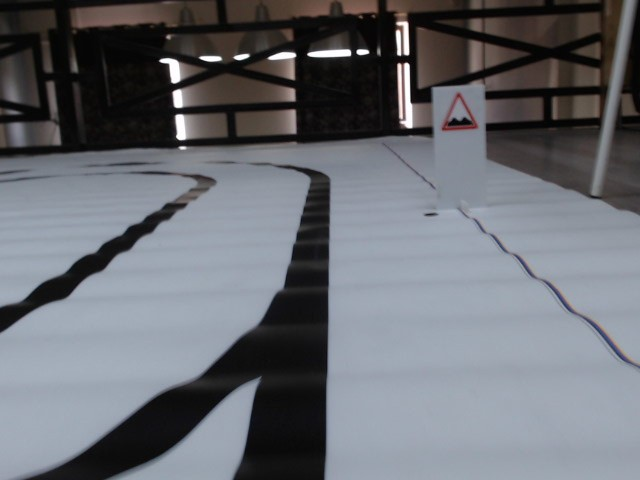Nerov: (439, 91, 481, 134)
